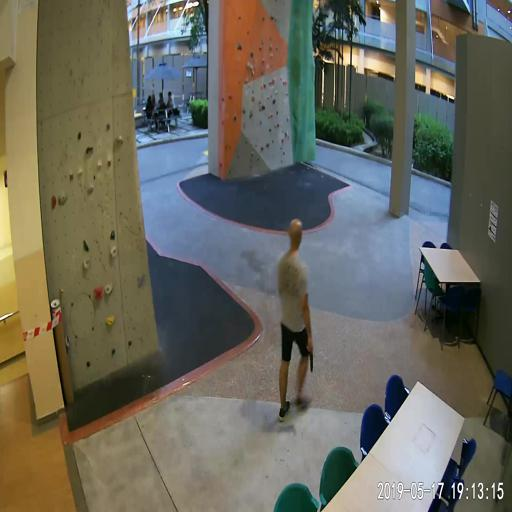pistol: (303, 341, 315, 374)
